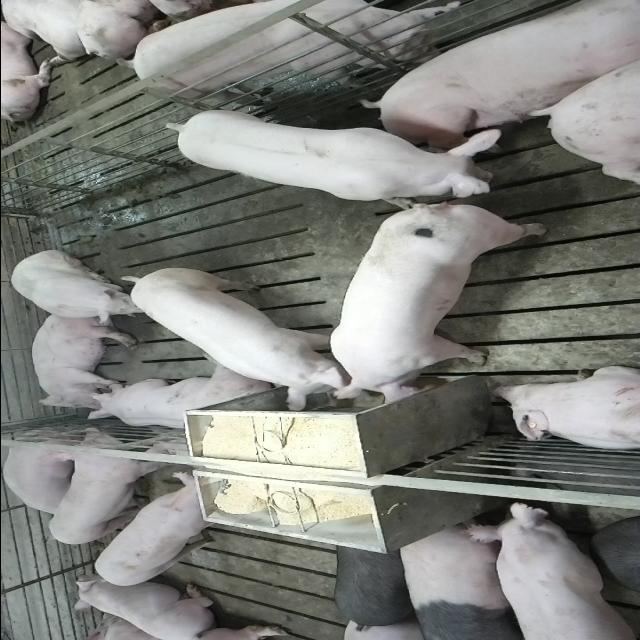Feeding: (330, 202, 550, 406), (114, 262, 356, 408)
Lateral_lying: (361, 3, 636, 153), (29, 312, 137, 409)
Sitting: (6, 250, 152, 326)
Standing: (113, 0, 474, 104), (158, 108, 510, 208), (465, 499, 640, 639), (91, 473, 238, 588), (396, 518, 536, 638), (332, 532, 426, 632)
Sternal_lying: (490, 365, 640, 453), (84, 365, 270, 433), (72, 580, 222, 638)
